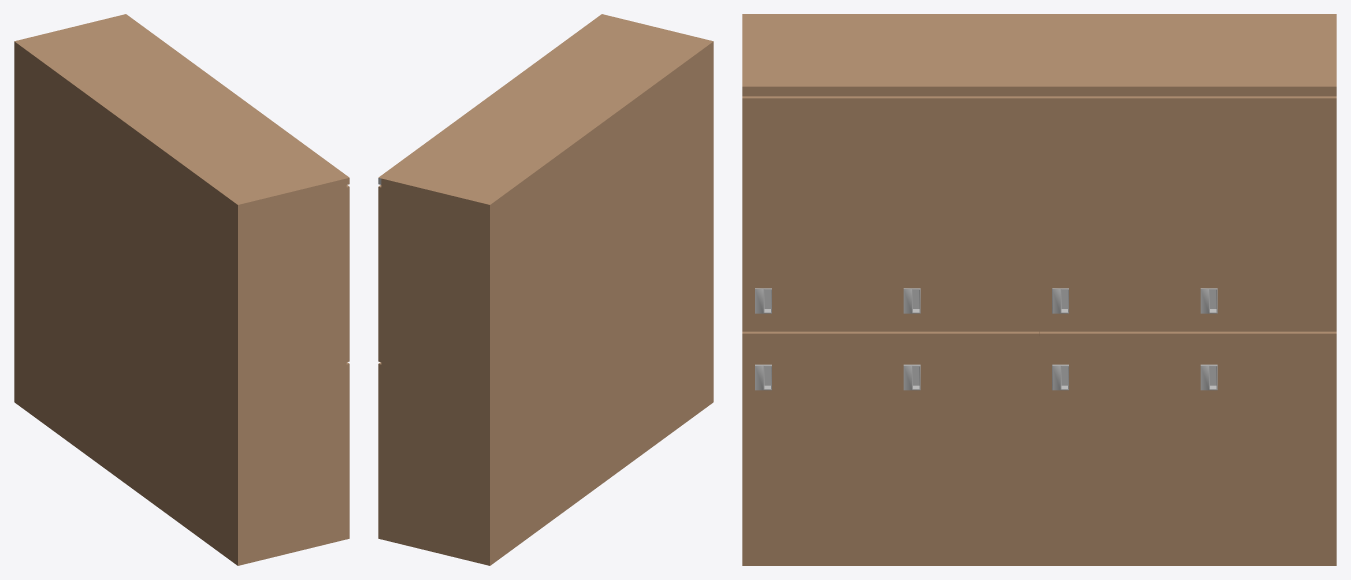
The model's file is cabinet_wood.fbx.
The picture shows the model from 3 angles, left to right: view 1: azimuth 30°, elevation 25°; view 2: azimuth 150°, elevation 25°; view 3: azimuth 270°, elevation 25°; orthographic projection. The views are drawn at different scales.
Visible parts, largest first — view 1: Cube; view 2: Cube; view 3: Cube.
Part boxes in pixels (<box>): Cube: <box>14,14,349,565</box>; Cube: <box>378,14,713,565</box>; Cube: <box>742,14,1336,565</box>.
Size of the model in its own units: 311 by 950 by 1067.
1 material, 1 textured.
